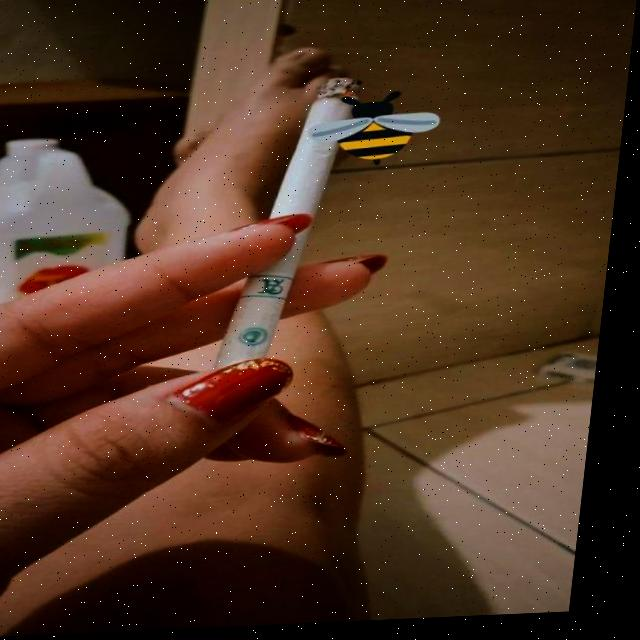cigarette: (222, 77, 368, 377)
